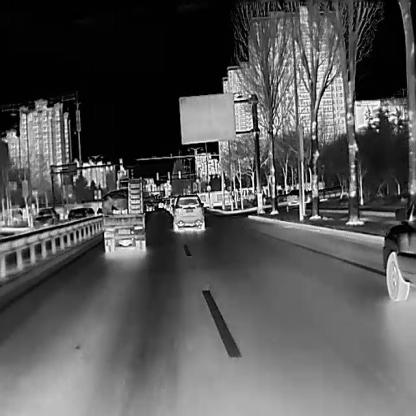car: (171, 192, 205, 232), (67, 206, 94, 234), (33, 208, 59, 232), (286, 186, 310, 205), (165, 197, 173, 211), (146, 202, 154, 210), (157, 202, 163, 207)
truck: (102, 178, 146, 253)
